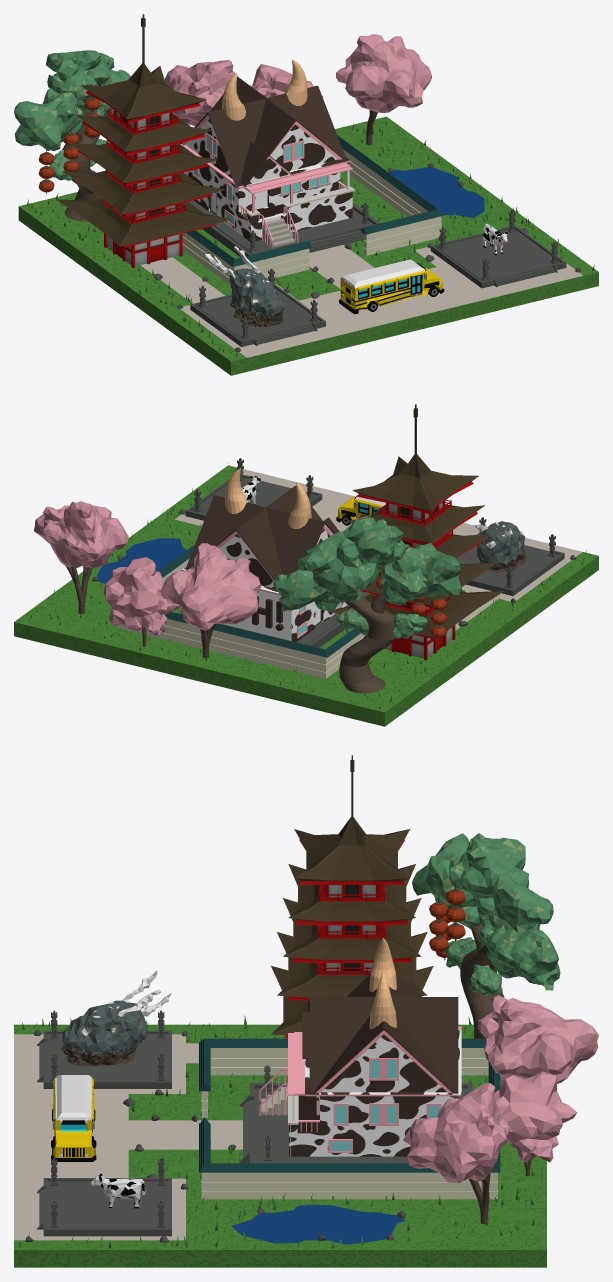
3 views of the same model, one above another, from view 1: azimuth 30°, elevation 25°; view 2: azimuth 150°, elevation 25°; view 3: azimuth 270°, elevation 25° (orthographic). The views are drawn at different scales.
Parts seen in each view (by area): view 1: Cube.005, Cube.1242, VEHICLES_SCHOOL_BUS, OBJRANDOM_METEORITE; view 2: Cube.005, Cube.1242, OBJRANDOM_METEORITE, VEHICLES_SCHOOL_BUS; view 3: Cube.005, Cube.1242, OBJRANDOM_METEORITE, VEHICLES_SCHOOL_BUS, ANIMAL_VACA.
Boxes of the visible parts, bbox=[...] form: Cube.005: bbox=[14, 14, 598, 375]; Cube.1242: bbox=[179, 59, 355, 248]; VEHICLES_SCHOOL_BUS: bbox=[339, 259, 444, 314]; OBJRANDOM_METEORITE: bbox=[205, 246, 284, 327]; Cube.005: bbox=[14, 404, 598, 726]; Cube.1242: bbox=[181, 468, 347, 642]; OBJRANDOM_METEORITE: bbox=[474, 521, 526, 572]; VEHICLES_SCHOOL_BUS: bbox=[336, 494, 385, 525]; Cube.005: bbox=[14, 755, 598, 1267]; Cube.1242: bbox=[259, 938, 461, 1156]; OBJRANDOM_METEORITE: bbox=[61, 970, 171, 1066]; VEHICLES_SCHOOL_BUS: bbox=[51, 1075, 96, 1161]; ANIMAL_VACA: bbox=[90, 1173, 145, 1208].
Size of the model in its own units: 4528 by 2698 by 4389.
44 materials, 5 textured.
